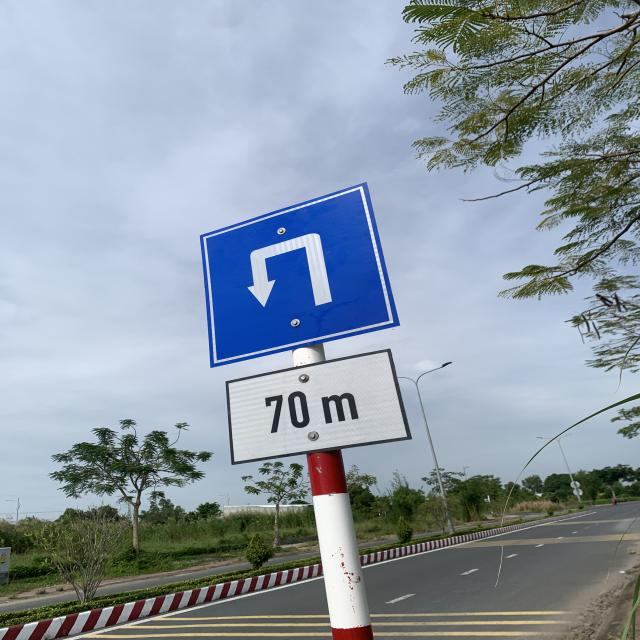Den_Giao_Thong: (199, 182, 399, 366)
